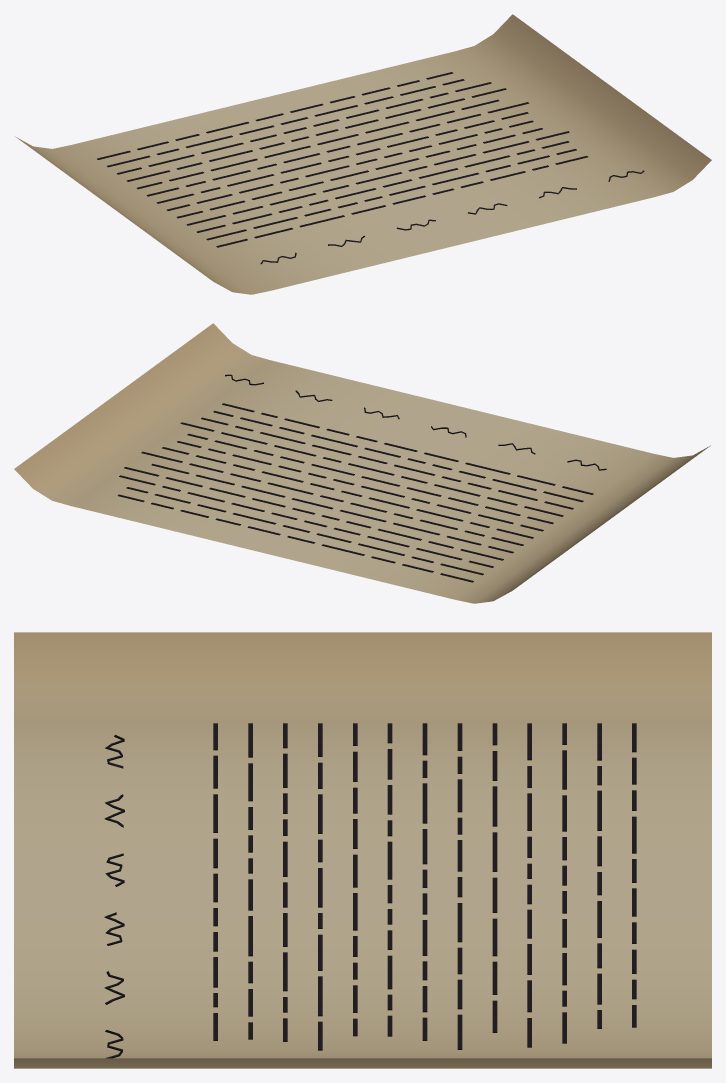
File: treaty_parchment.glb
The picture shows the model from 3 angles, top to bottom: view 1: azimuth 30°, elevation 25°; view 2: azimuth 150°, elevation 25°; view 3: azimuth 270°, elevation 25°; orthographic projection. The views are drawn at different scales.
Parts seen in each view (by area): view 1: treaty_parchment; view 2: treaty_parchment; view 3: treaty_parchment.
Part boxes in pixels (x1=…): treaty_parchment: x1=15, y1=14, x2=711, y2=294; treaty_parchment: x1=14, y1=323, x2=710, y2=603; treaty_parchment: x1=14, y1=632, x2=711, y2=1068.
Size of the model in its own units: 1.3 by 0.0576 by 0.9.
